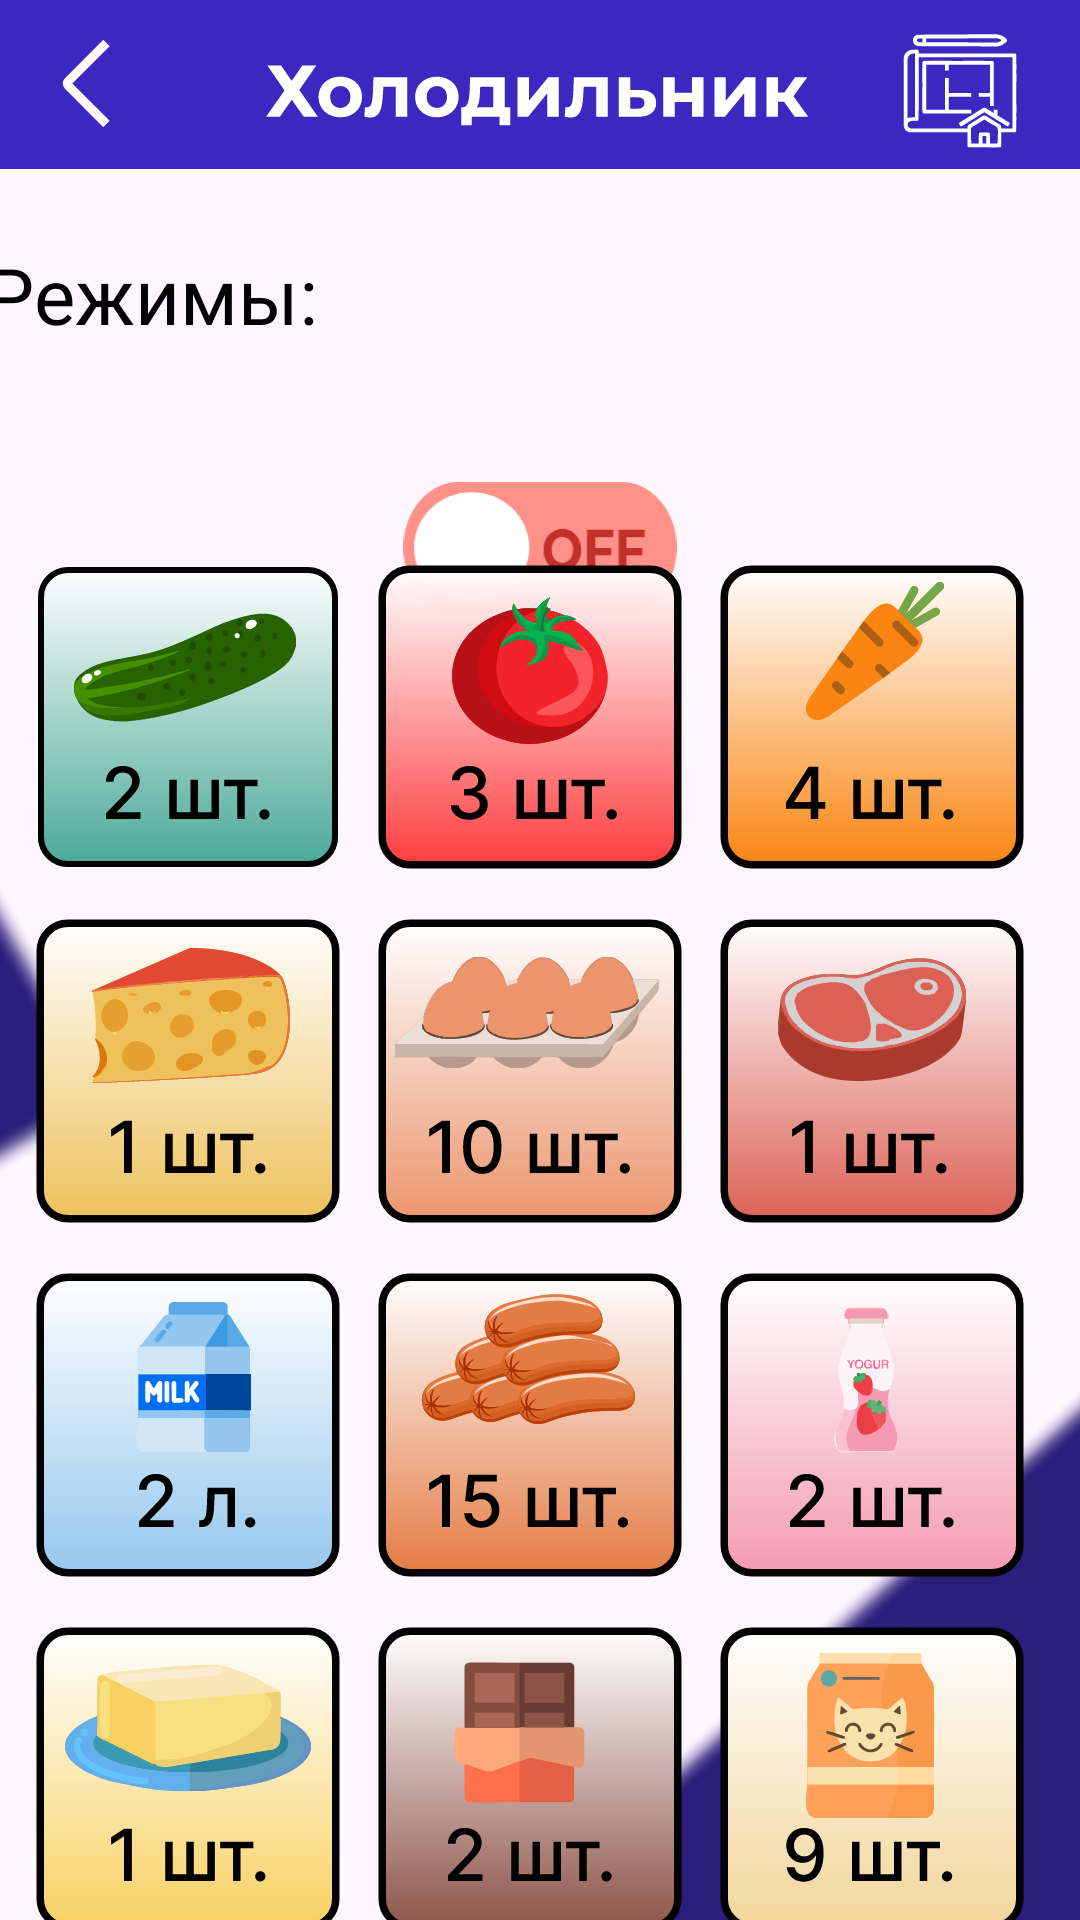

Icons on this 1080w x 1920h Android screen, each with its box as [x1=x1, y1=y1, x2=x2, y2=y2]:
butter: [x1=36, y1=1627, x2=340, y2=1920]
carrot: [x1=720, y1=565, x2=1024, y2=869]
catfood: [x1=713, y1=1614, x2=1024, y2=1920]
cheese: [x1=29, y1=919, x2=340, y2=1223]
chocolate: [x1=378, y1=1627, x2=689, y2=1920]
cucumber: [x1=38, y1=567, x2=338, y2=867]
deviceback: [x1=62, y1=40, x2=110, y2=127]
eggs: [x1=378, y1=919, x2=682, y2=1223]
mapback: [x1=903, y1=34, x2=1017, y2=148]
meat: [x1=720, y1=919, x2=1024, y2=1223]
sausages: [x1=378, y1=1273, x2=682, y2=1577]
tomato: [x1=378, y1=552, x2=682, y2=869]
